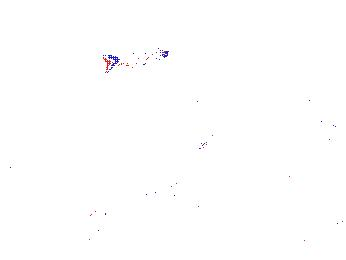glassfish: (182, 97, 286, 170), (86, 178, 198, 218)
red belly glassfish: (303, 117, 346, 140)
redtail glassfish: (100, 44, 170, 75), (154, 26, 223, 55)
